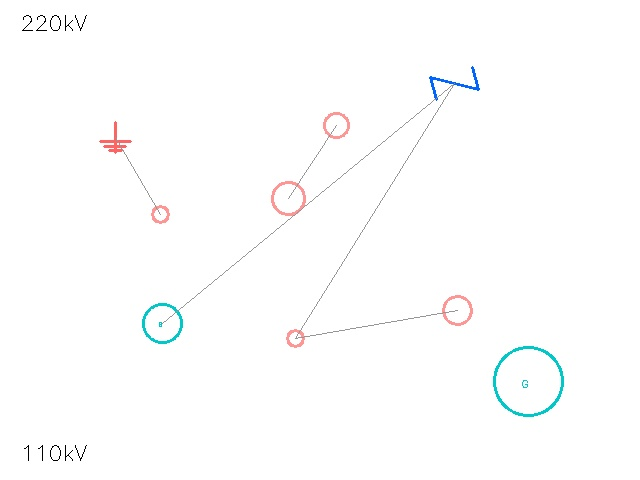circuit_breaker: (430, 59, 478, 107)
current_transformer: (256, 166, 320, 230), (143, 197, 177, 231)
generator: (494, 347, 562, 415), (143, 304, 181, 342)
ground: (100, 122, 130, 152)
surge_arrester: (428, 281, 486, 339), (311, 100, 361, 150)
voltage_transformer: (278, 321, 312, 355)
